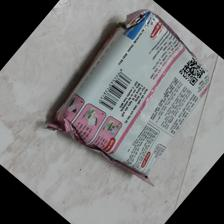Haohao: (44, 8, 211, 189)
